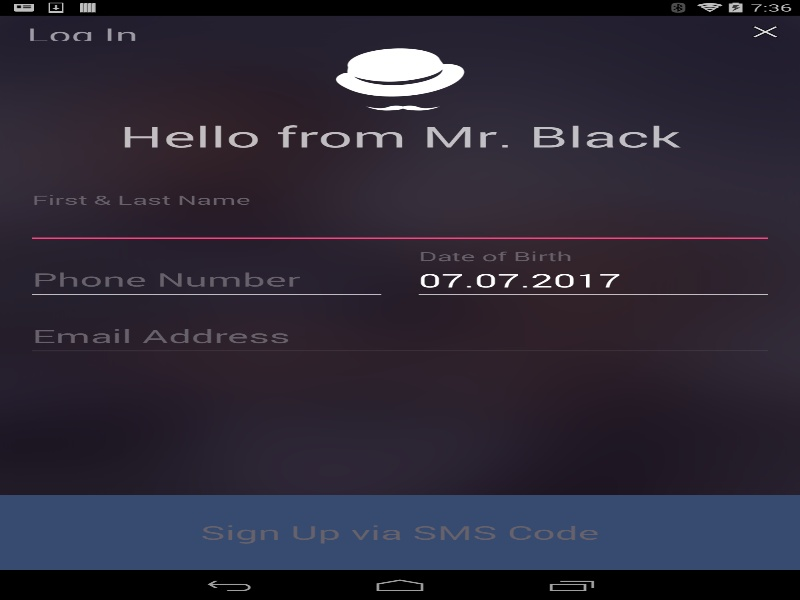Button: (0, 495, 800, 570), (0, 21, 164, 40), (744, 21, 786, 41)
Input: (26, 204, 773, 243), (26, 317, 773, 356), (26, 261, 386, 299), (413, 261, 773, 299)
